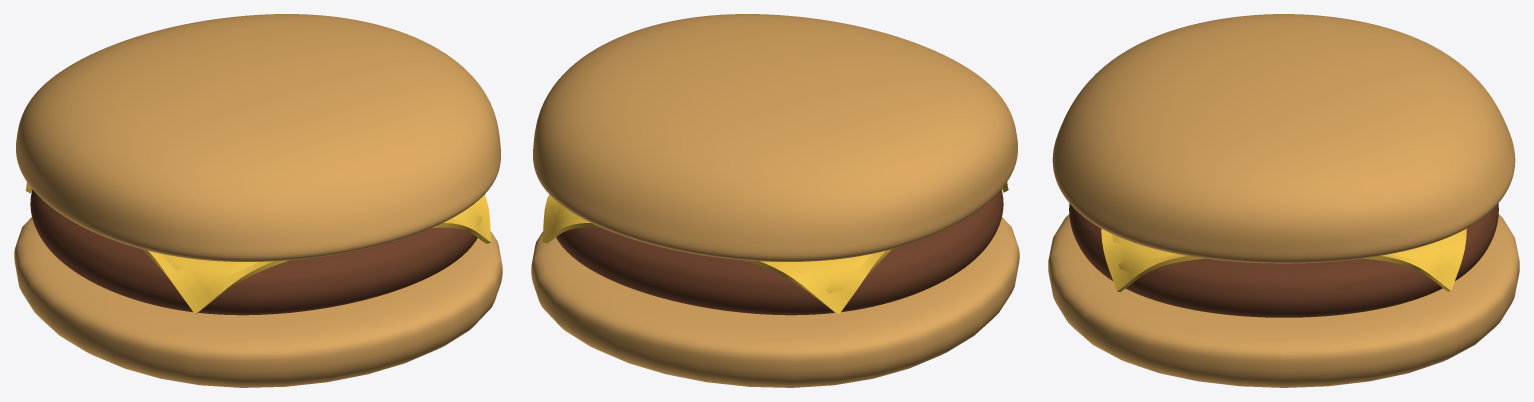
The model's file is Burger.glb.
The picture shows the model from 3 angles, left to right: view 1: azimuth 30°, elevation 25°; view 2: azimuth 150°, elevation 25°; view 3: azimuth 270°, elevation 25°; orthographic projection.
Parts seen in each view (by area): view 1: BurgerHead, BurgerBase, Patty, Plane; view 2: BurgerHead, BurgerBase, Patty, Plane; view 3: BurgerHead, BurgerBase, Patty, Plane.
Part boxes in pixels (x1,y1,x2,y2): BurgerHead: [16, 14, 500, 261]; BurgerBase: [14, 217, 502, 387]; Patty: [30, 189, 484, 315]; Plane: [25, 182, 491, 314]; BurgerHead: [533, 14, 1017, 261]; BurgerBase: [531, 217, 1019, 387]; Patty: [556, 189, 1003, 315]; Plane: [542, 182, 1008, 314]; BurgerHead: [1052, 14, 1515, 263]; BurgerBase: [1048, 214, 1519, 387]; Patty: [1069, 203, 1498, 317]; Plane: [1101, 228, 1466, 292].
Bounding box in the file's own units: 7.33 × 4.19 × 7.33.
